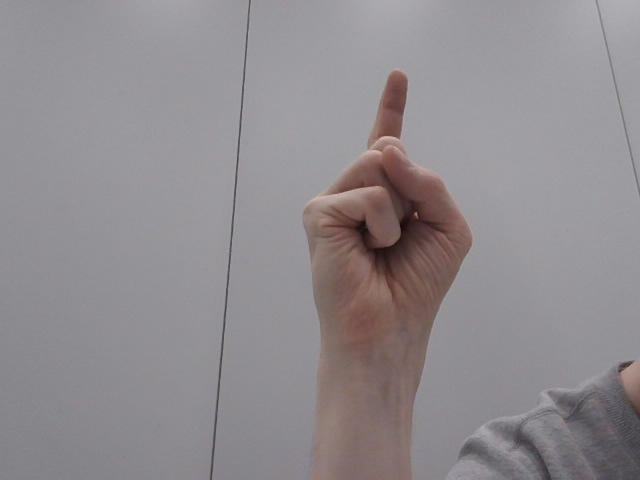up: (291, 53, 486, 372)
